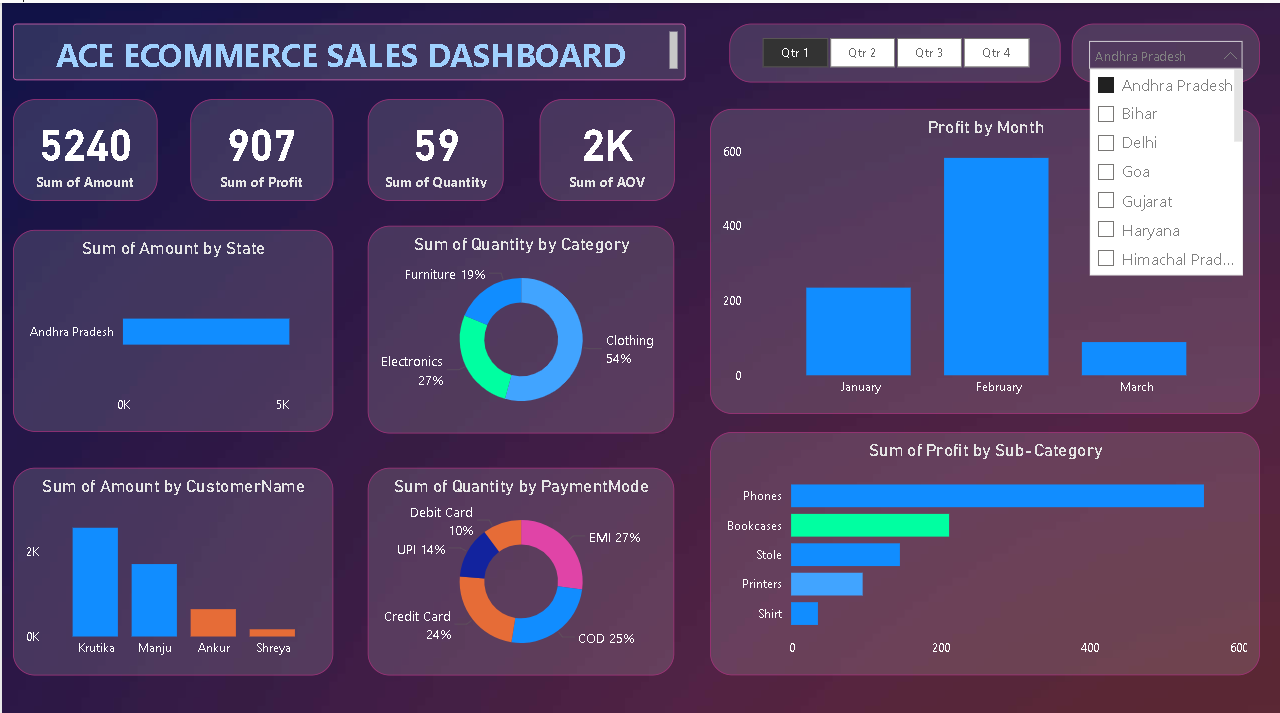

Layout of this report page (visuals, bound fields, positions):
{"tool":"powerbi","page":{"name":"Page 1","canvas":[1280,720],"ordinal":0},"visuals":[{"type":"columnChart","title":"Profit by Month","fields":{"Y":["Sum(Details.Profit)"],"Category":["Orders.Order Date.Variation.Date Hierarchy.Month"]},"box":[709.1,106,550.8,305.7],"z":0},{"type":"textbox","box":[11.3,21,673.7,56.4],"z":1000},{"type":"clusteredBarChart","fields":{"Y":["Sum(Details.Profit)"],"Category":["Details.Sub-Category"]},"box":[709.1,429.6,550.8,243.7],"z":2000},{"type":"donutChart","fields":{"Category":["Details.Category"],"Y":["Sum(Details.Quantity)"]},"box":[366.3,223.1,307.1,207.9],"z":3000},{"type":"donutChart","fields":{"Y":["Sum(Details.Quantity)"],"Category":["Details.PaymentMode"]},"box":[366.3,465.4,307.1,207.9],"z":4000},{"type":"card","fields":{"Values":["Sum(Details.Amount)"]},"box":[11,96.4,144.6,101.9],"z":5000},{"type":"card","fields":{"Values":["Sum(Details.Profit)"]},"box":[188.6,96.4,143.2,101.9],"z":6000},{"type":"card","fields":{"Values":["Sum(Details.Quantity)"]},"box":[366.3,96.4,136.3,101.9],"z":7000},{"type":"card","fields":{"Values":["Sum(Details.AOV)"]},"box":[538.4,96.4,134.9,101.9],"z":8000},{"type":"clusteredBarChart","fields":{"Y":["Sum(Details.Amount)"],"Category":["Orders.State"]},"box":[11,227.2,320.8,202.4],"z":9000},{"type":"columnChart","fields":{"Category":["Orders.CustomerName"],"Y":["Sum(Details.Amount)"]},"box":[11,465.4,320.8,207.9],"z":10000},{"type":"slicer","fields":{"Values":["Orders.Order Date.Variation.Date Hierarchy.Quarter"]},"box":[728.4,20.7,331.8,59.2],"z":11000},{"type":"slicer","fields":{"Values":["Orders.State"]},"box":[1071.2,20.7,188.6,59.2],"z":12000}]}

Visuals, with their boxes in screenshot pixels (x1, y1, x2, y2), scaled from the page's 1280x720 canvas onto the 1280x713 screenshot:
"Profit by Month" columnChart: crop(709, 105, 1260, 408)
textbox: crop(11, 21, 685, 77)
clusteredBarChart - Sum(Details.Profit) x Details.Sub-Category: crop(709, 425, 1260, 667)
donutChart - Details.Category x Sum(Details.Quantity): crop(366, 221, 673, 427)
donutChart - Sum(Details.Quantity) x Details.PaymentMode: crop(366, 461, 673, 667)
card - Sum(Details.Amount): crop(11, 95, 156, 196)
card - Sum(Details.Profit): crop(189, 95, 332, 196)
card - Sum(Details.Quantity): crop(366, 95, 503, 196)
card - Sum(Details.AOV): crop(538, 95, 673, 196)
clusteredBarChart - Sum(Details.Amount) x Orders.State: crop(11, 225, 332, 425)
columnChart - Orders.CustomerName x Sum(Details.Amount): crop(11, 461, 332, 667)
slicer - Orders.Order Date.Variation.Date Hierarchy.Quarter: crop(728, 20, 1060, 79)
slicer - Orders.State: crop(1071, 20, 1260, 79)
